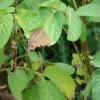Potato leaf early blight: (25, 7, 63, 52), (43, 65, 79, 99), (70, 52, 88, 77)
